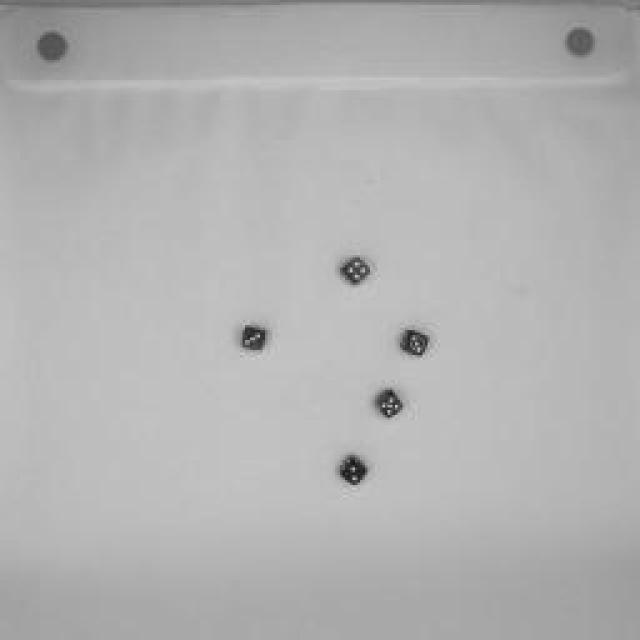dice_2: (336, 449, 376, 496)
dice_3: (395, 322, 435, 362), (236, 322, 274, 356)
dice_4: (336, 249, 376, 291)
dice_5: (369, 385, 411, 423)
